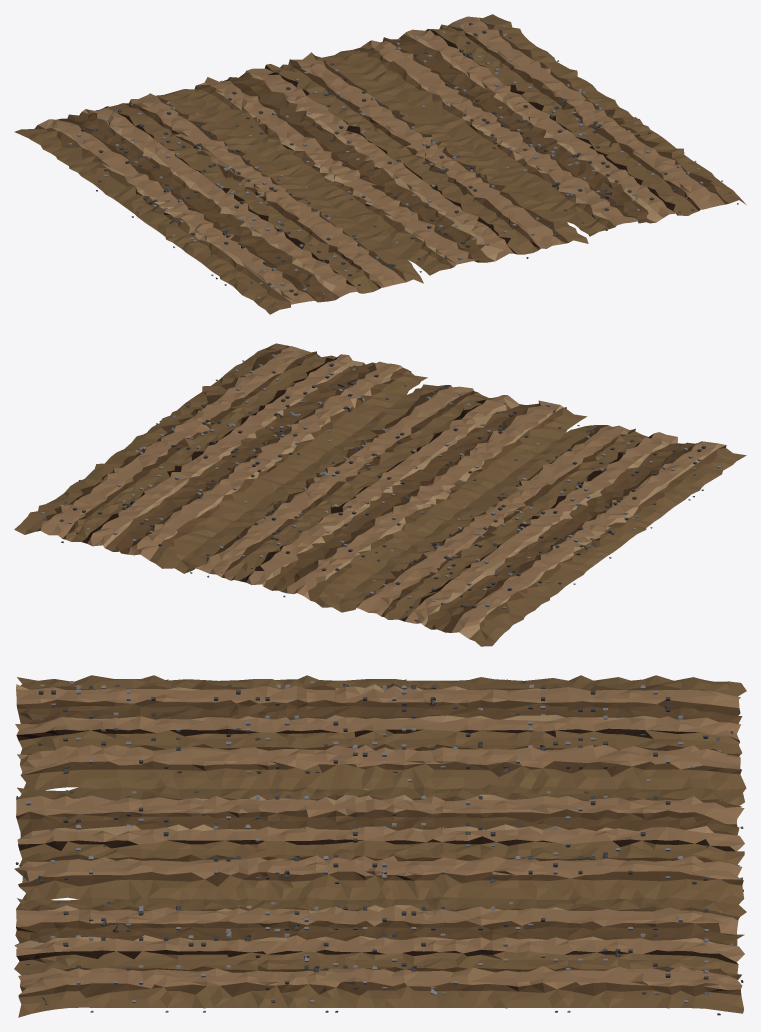
Rendered from EA_M_Env_Field_Mud_01a.fbx.
3 views of the same model, one above another, from view 1: azimuth 30°, elevation 25°; view 2: azimuth 150°, elevation 25°; view 3: azimuth 270°, elevation 25° (orthographic). The views are drawn at different scales.
Visible parts, largest first — view 1: EA_M_Env_Field_Mud_01a_LOD0; view 2: EA_M_Env_Field_Mud_01a_LOD0; view 3: EA_M_Env_Field_Mud_01a_LOD0.
Part boxes in pixels (bbox=[...]): EA_M_Env_Field_Mud_01a_LOD0: bbox=[14, 14, 746, 314]; EA_M_Env_Field_Mud_01a_LOD0: bbox=[14, 343, 746, 646]; EA_M_Env_Field_Mud_01a_LOD0: bbox=[14, 675, 746, 1017].
Size of what is drawn, in the model's own units: 11.89 by 0.3567 by 11.06.
